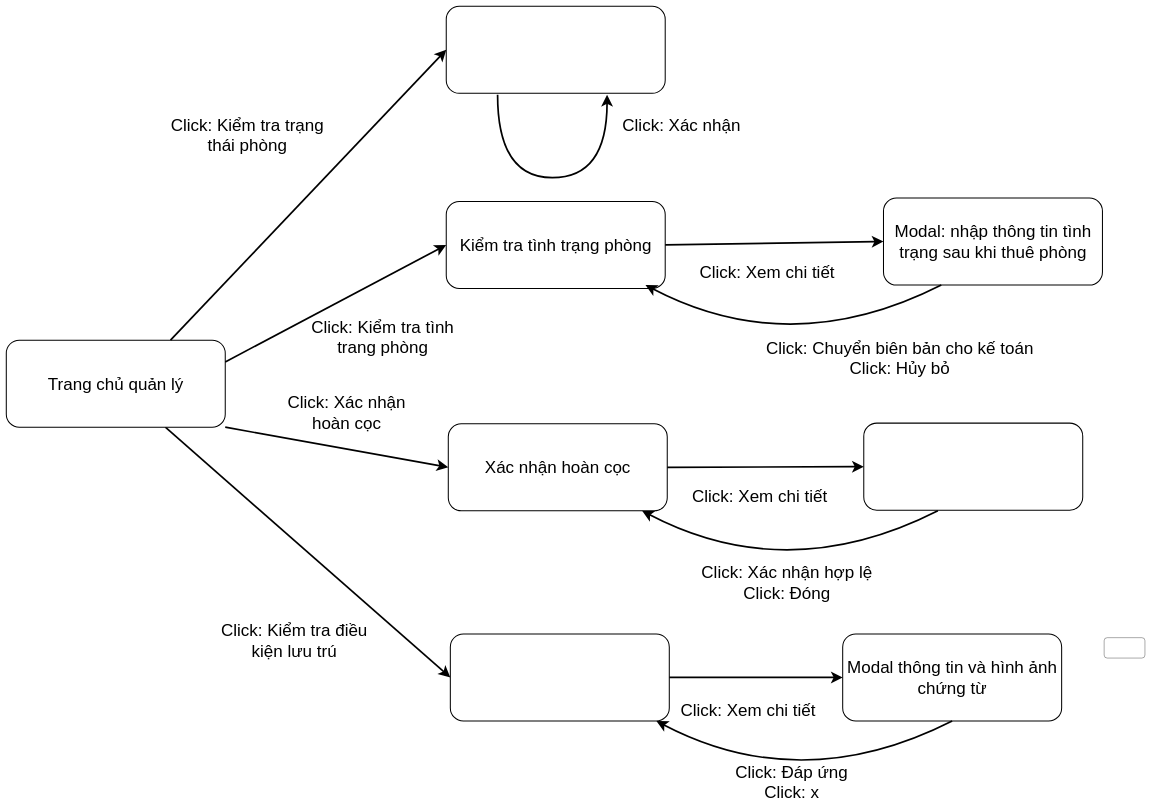
Image size: 1151x808. Some labels were removed from this diagram. The shapes that lost their labels are listed below. From the top down, each one's centre as x and y in pixels, then its label:
At (x=556, y=50): "Kiểm tra trạng thái phòng".
At (x=973, y=466): "Modal thông tin hoàn cọc".
At (x=560, y=677): "Kiểm tra điều kiện lưu trú".
